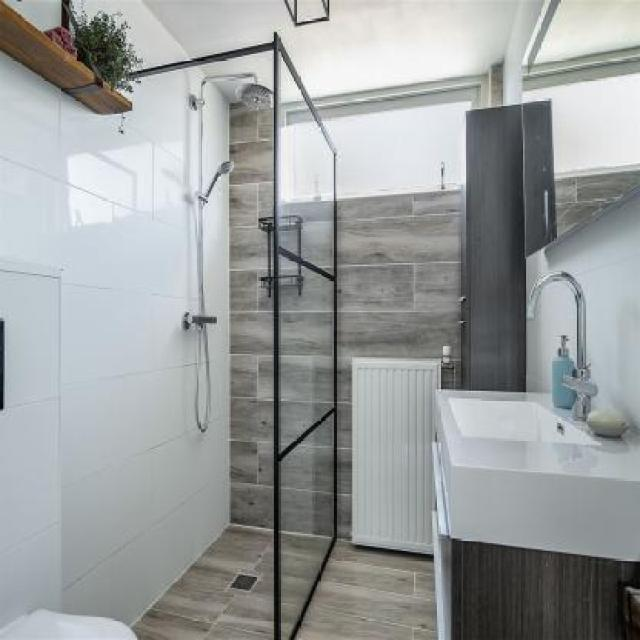floor: (139, 524, 274, 640), (295, 536, 438, 640)
